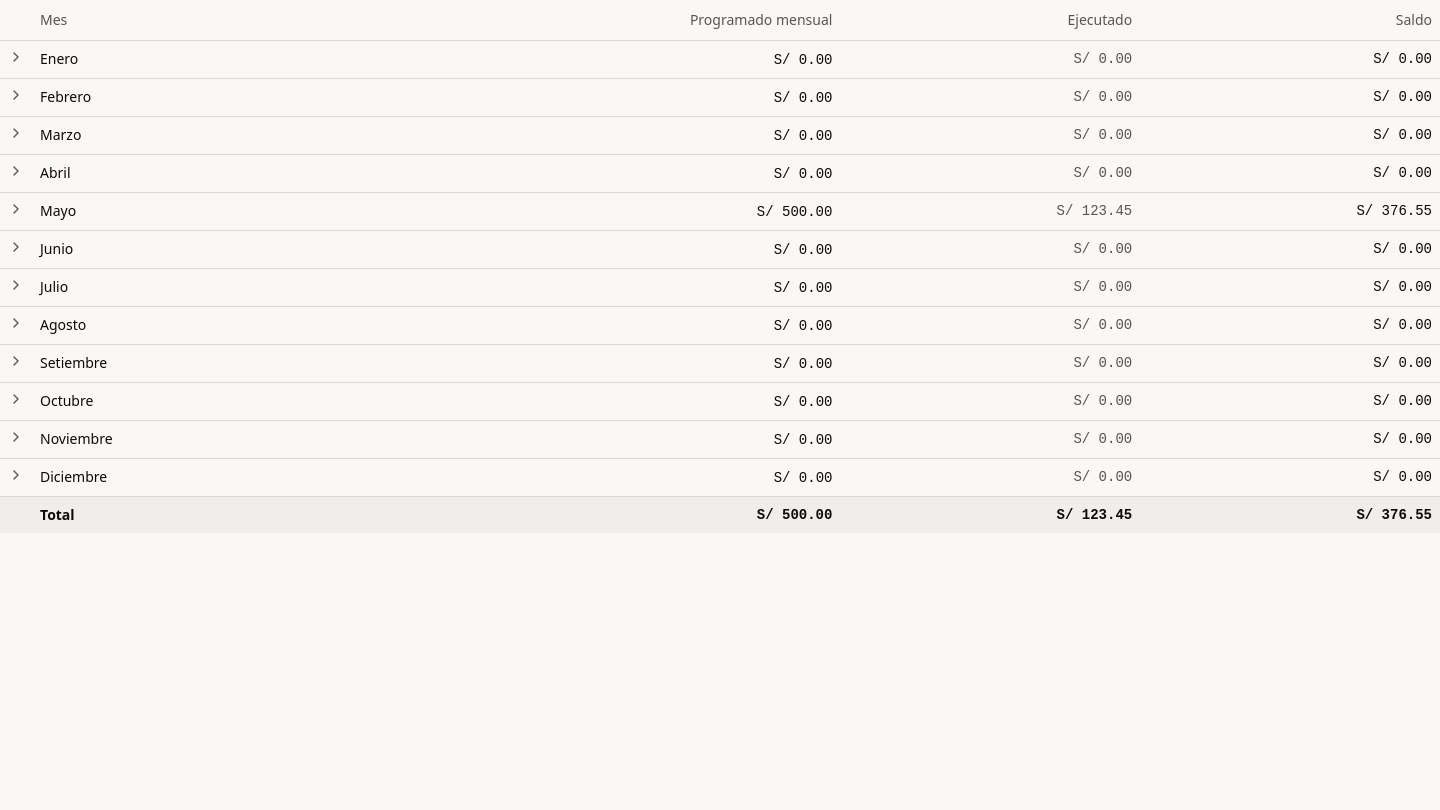
Test: MonthlyTable › keeps paid execution details static when requestId is missing
What coordinates should you click on to do the following:
click the text "Mayo"
I would click on:
 (58, 210)
Its box is x1=32 y1=192 x2=322 y2=230.
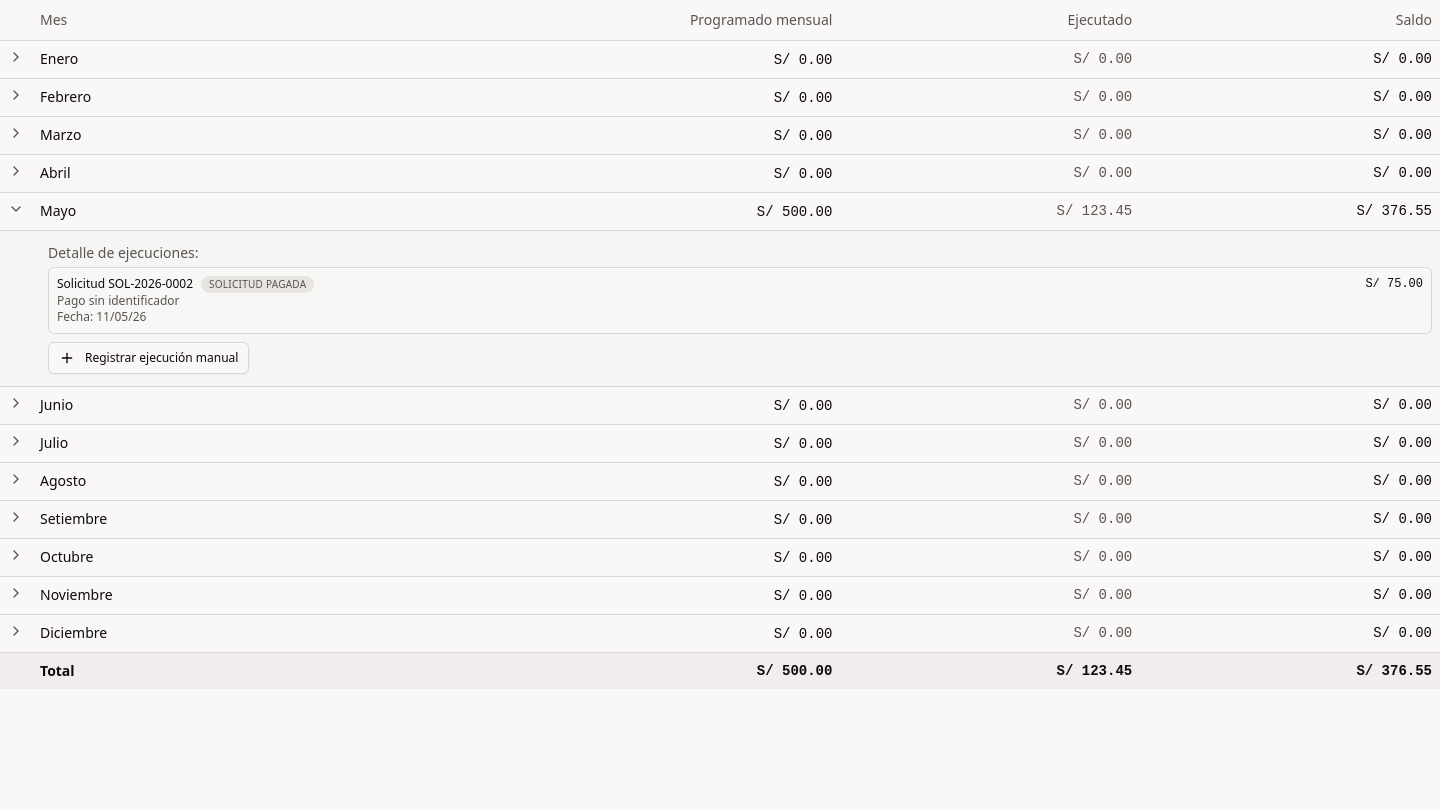
Check: the text "Solicitud SOL-2026-0002" is shown, box x1=57 y1=276 x2=193 y2=292
